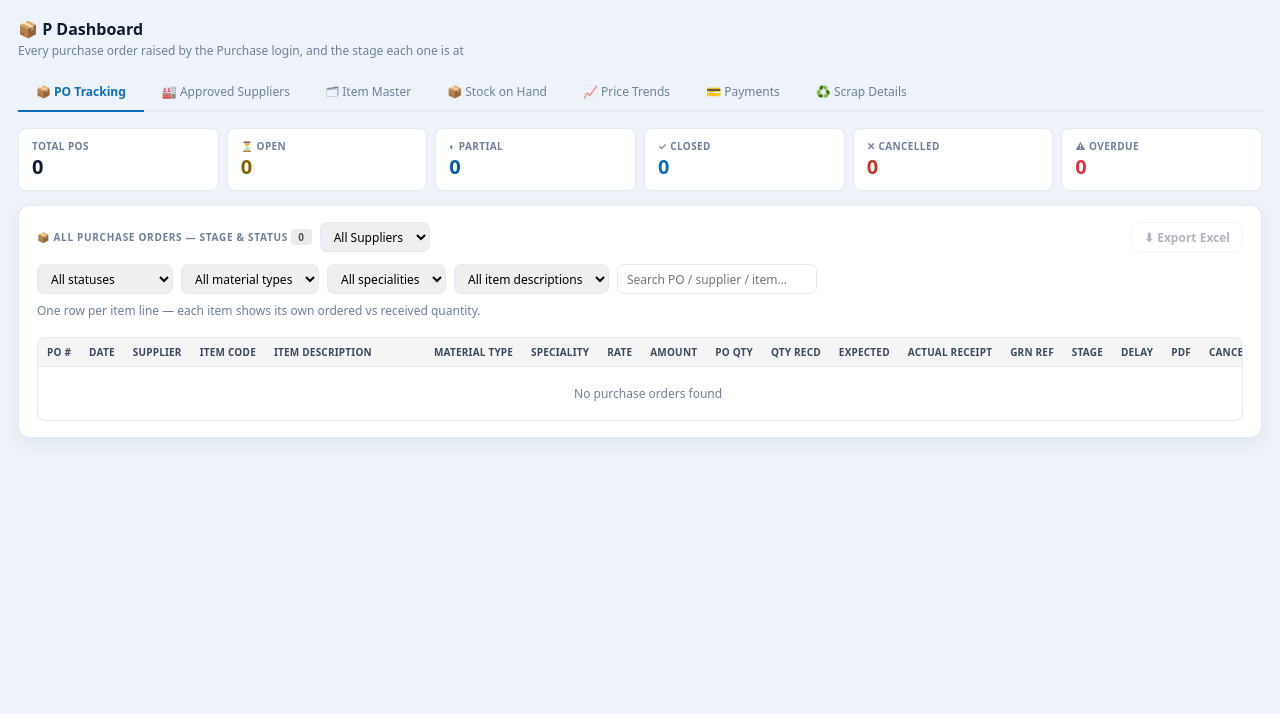
Test: P Dashboard — Stock on Hand sits next to the Item Master › the Item Master tab is the item master only — the board is no longer tucked under it
The image size is (1280, 714).
What coordinates should you click on to do the following:
click the text "🗂 Item Master"
I would click on:
 (369, 92)
Its box is [326,83,411,100].
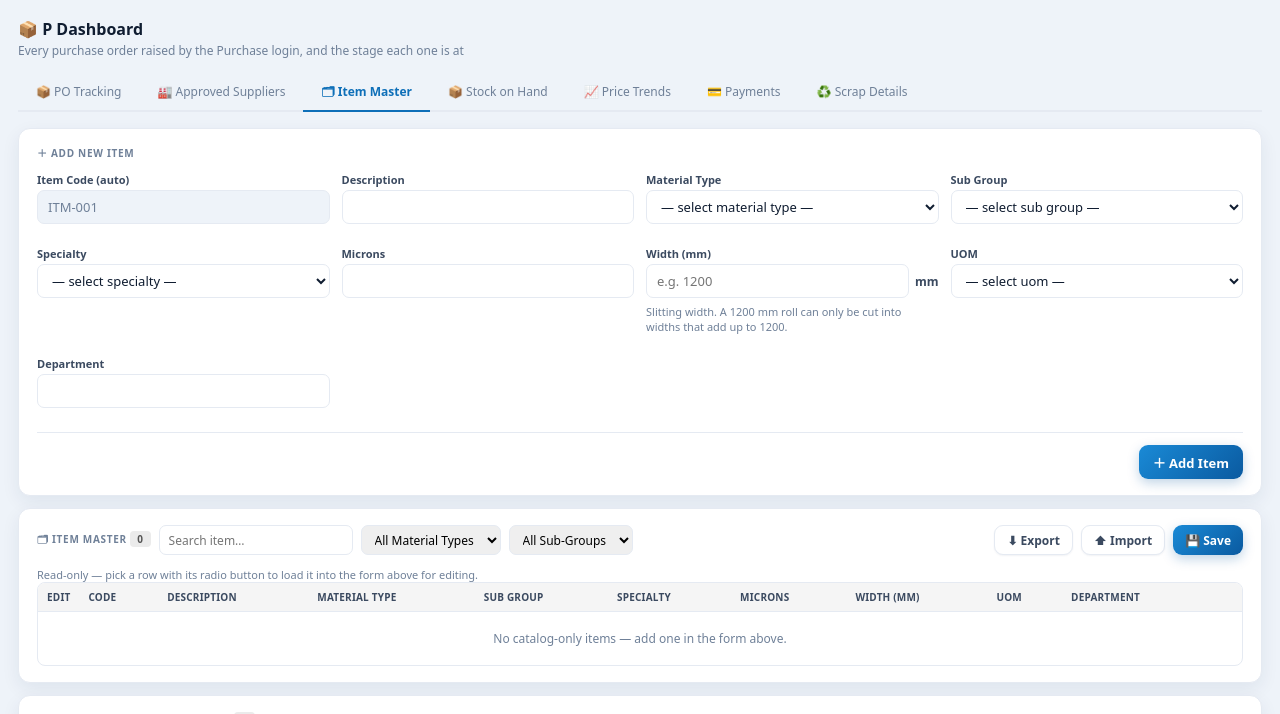
Now the field with placeholder "Search item…" is shown, box [159,525,353,555]
